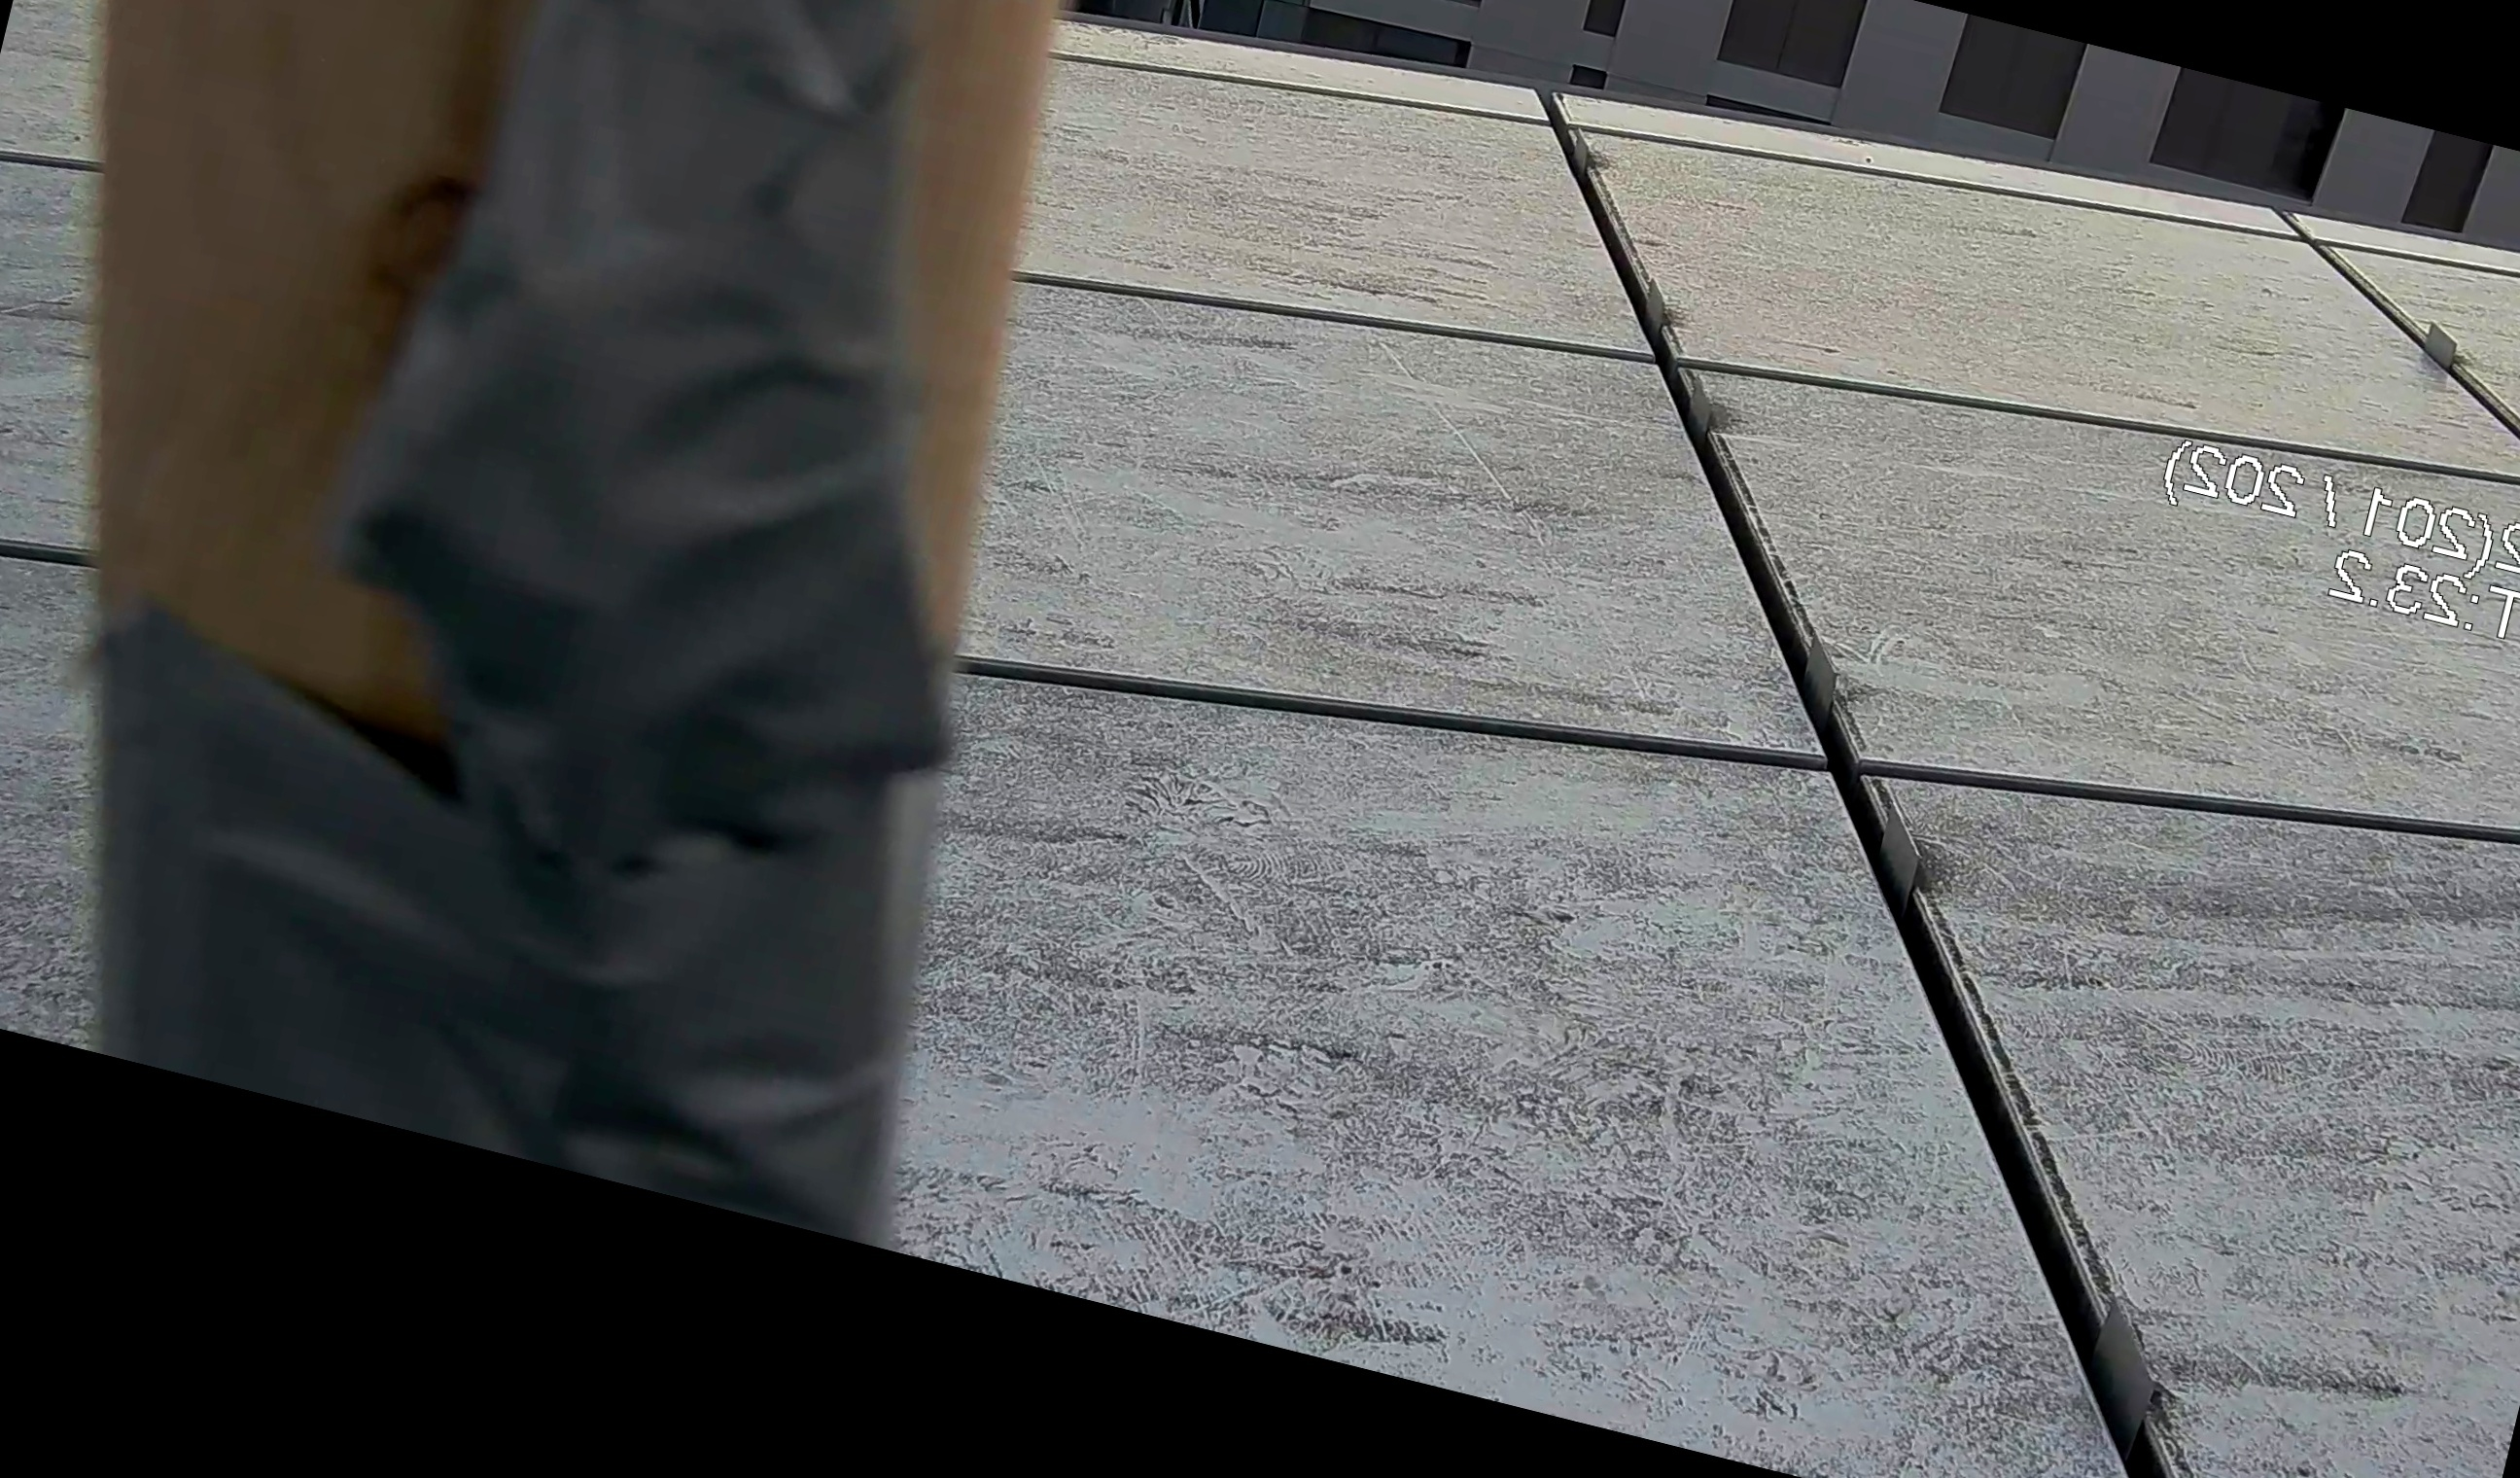Other: (0, 0, 1213, 1251)
